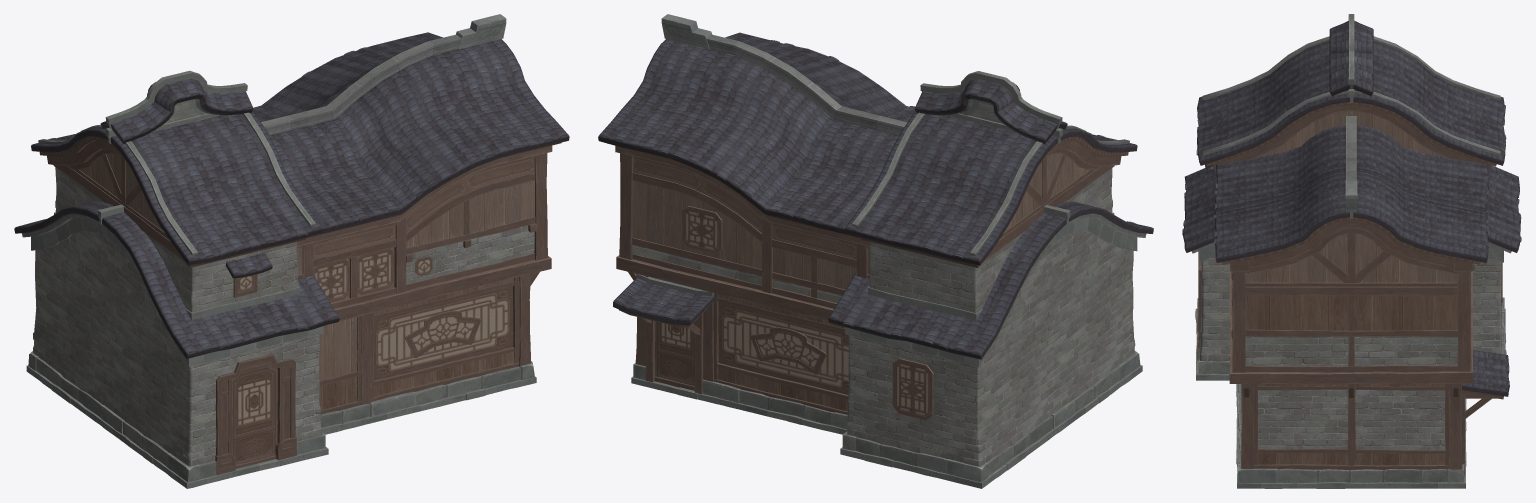
Rendered from Homeworld_Exterior_Cyg_Build_YlbHuishi_03_Lod0.fbx.
3 renders of one model, left to right at view 1: azimuth 30°, elevation 25°; view 2: azimuth 150°, elevation 25°; view 3: azimuth 270°, elevation 25°, orthographic. The views are drawn at different scales.
Parts seen in each view (by area): view 1: Area_Cyg_Build_QYZ_Comp_Huishi_D_01_Lod0; view 2: Area_Cyg_Build_QYZ_Comp_Huishi_D_01_Lod0; view 3: Area_Cyg_Build_QYZ_Comp_Huishi_D_01_Lod0.
Boxes of the visible parts, x1,y1,x2,y2 form: Area_Cyg_Build_QYZ_Comp_Huishi_D_01_Lod0: [14, 14, 569, 488]; Area_Cyg_Build_QYZ_Comp_Huishi_D_01_Lod0: [598, 14, 1153, 488]; Area_Cyg_Build_QYZ_Comp_Huishi_D_01_Lod0: [1182, 14, 1521, 488].
Size of what is drawn, in the model's own units: 12.64 by 10.1 by 9.54.
